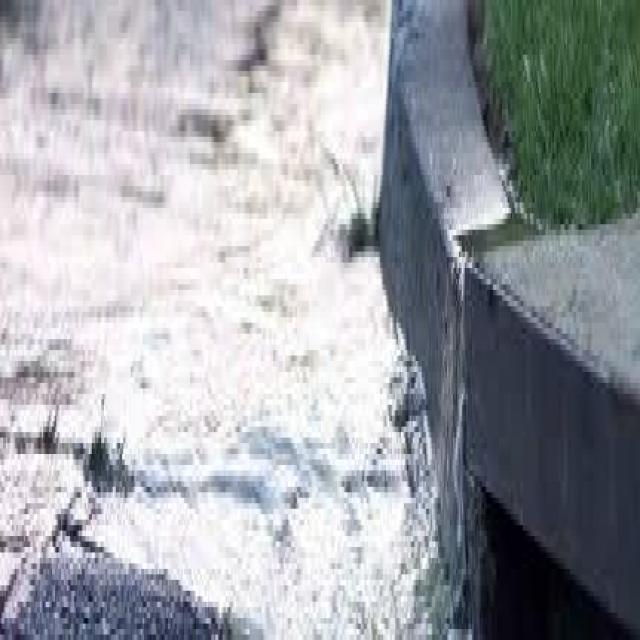curb: (381, 18, 640, 640)
